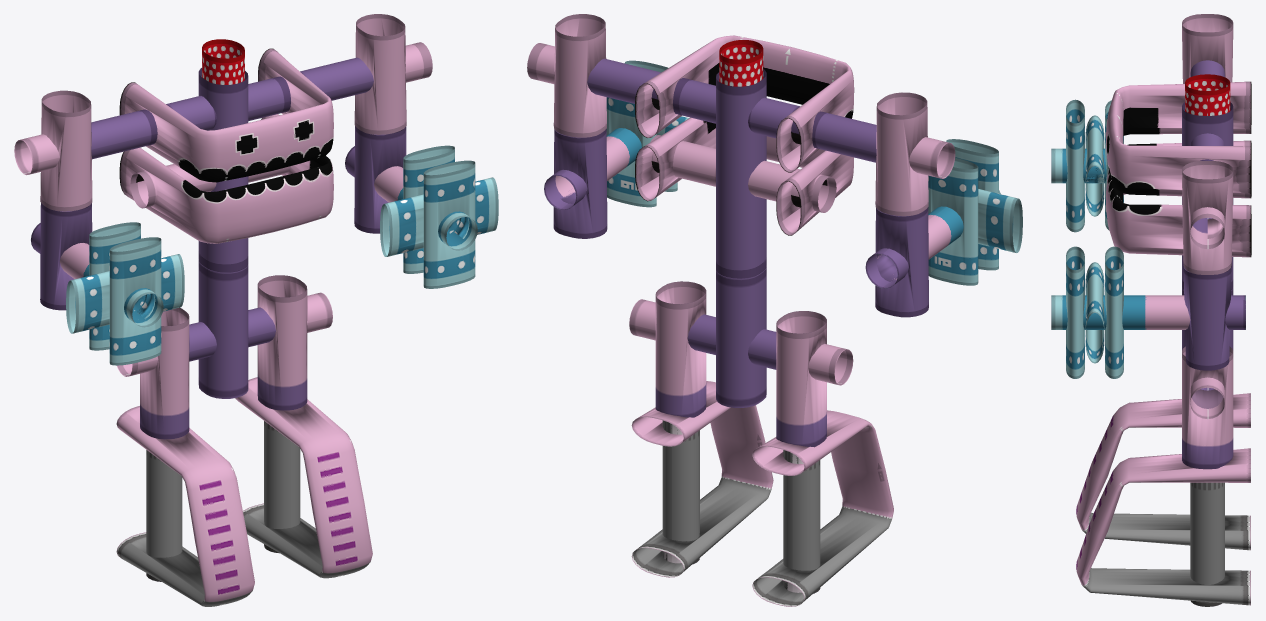
3 renders of one model, left to right at view 1: azimuth 30°, elevation 25°; view 2: azimuth 150°, elevation 25°; view 3: azimuth 270°, elevation 25°, orthographic. The views are drawn at different scales.
Parts seen in each view (by area): view 1: foot_R.004, head.002, foot_L.002, head.003, body.001, leg_L.001, waist.001, hand.008, hand.006, arm.003, arm.001, leg_R.002 (+14 smaller); view 2: foot_R.004, foot_L.002, head.002, body.001, head.001, head.003, leg_L.001, leg_R.002, waist.001, arm.003, arm.001, arm.004 (+12 smaller); view 3: head.002, foot_L.002, foot_R.004, head.003, arm.001, leg_L.001, arm.002, hand.001, foot_L.001, arm.003, hand.006, hand.008 (+9 smaller).
Part boxes in pixels (<box>): foot_R.004: <box>116,406,254,606</box>; head.002: <box>119,48,333,182</box>; foot_L.002: <box>235,377,372,578</box>; head.003: <box>119,114,333,243</box>; body.001: <box>14,42,432,175</box>; leg_L.001: <box>257,275,307,410</box>; waist.001: <box>198,259,248,398</box>; hand.008: <box>109,237,161,365</box>; hand.006: <box>423,160,475,288</box>; arm.003: <box>40,90,92,211</box>; arm.001: <box>354,14,406,134</box>; leg_R.002: <box>140,307,189,439</box>; foot_R.004: <box>752,410,893,606</box>; foot_L.002: <box>631,381,773,577</box>; head.002: <box>635,35,854,172</box>; body.001: <box>527,43,955,178</box>; head.001: <box>716,69,766,278</box>; head.003: <box>635,117,853,235</box>; leg_L.001: <box>655,281,706,417</box>; leg_R.002: <box>776,311,826,447</box>; waist.001: <box>716,265,766,407</box>; arm.003: <box>875,92,928,216</box>; arm.001: <box>553,14,606,137</box>; arm.004: <box>875,207,928,317</box>; head.002: <box>1106,81,1251,198</box>; foot_L.002: <box>1076,448,1250,605</box>; foot_R.004: <box>1076,393,1250,550</box>; head.003: <box>1106,140,1251,257</box>; arm.001: <box>1182,161,1233,274</box>; leg_L.001: <box>1182,346,1233,469</box>; arm.002: <box>1183,263,1231,370</box>; hand.001: <box>1051,295,1245,329</box>; foot_L.001: <box>1190,482,1224,606</box>; arm.003: <box>1182,14,1233,83</box>; hand.006: <box>1066,246,1084,378</box>; hand.008: <box>1066,99,1084,232</box>.
Size of the model in its own units: 10.76 by 12.44 by 4.6.
Materials: 15 (15 with a texture image).
